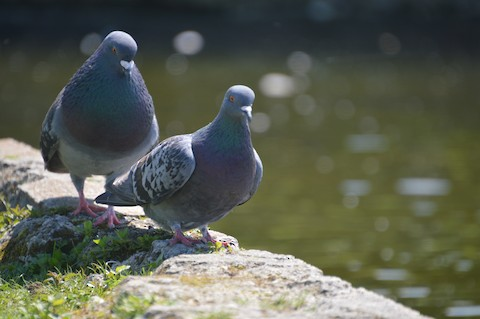pigeon: (87, 78, 270, 256), (31, 22, 166, 235)
